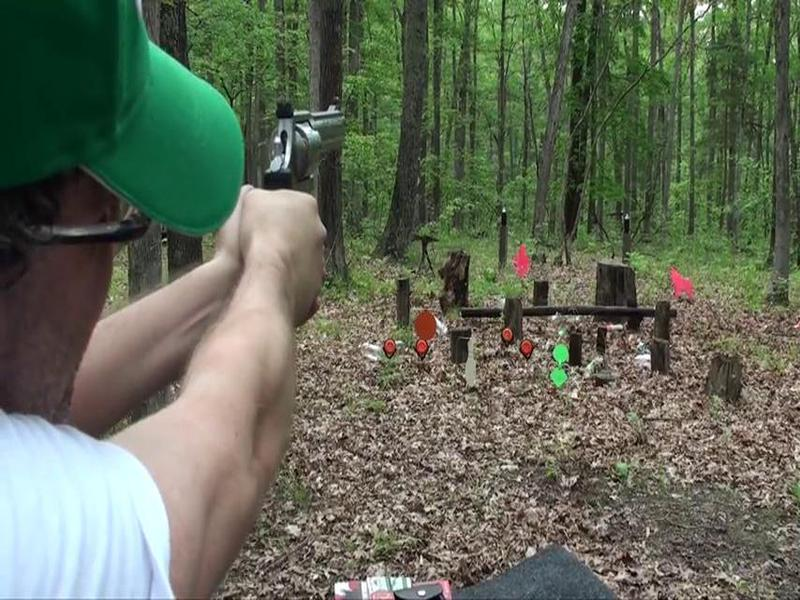Revolver: (248, 81, 375, 303)
